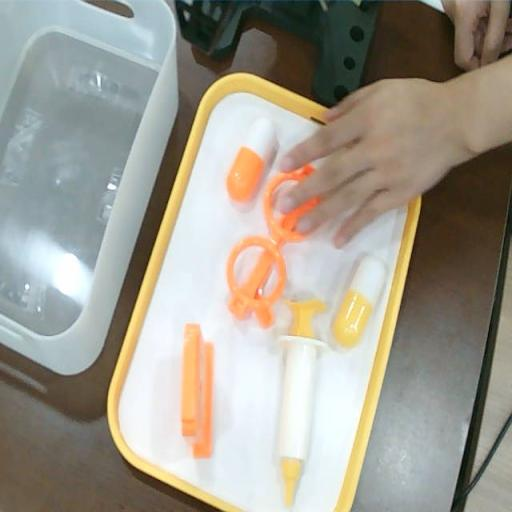hospital: (286, 78, 456, 241)
